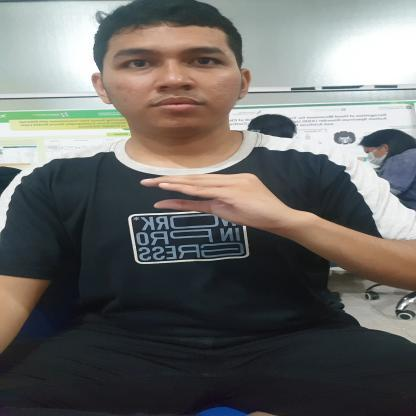Pagi: (140, 171, 315, 241)
